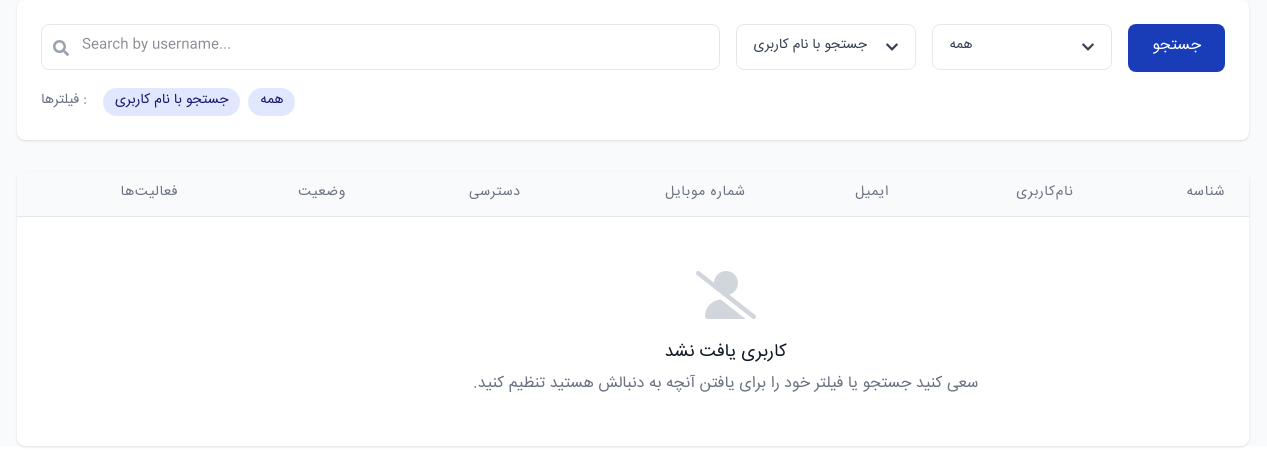
Test: UserManagement Component - Tests › filters users by banned status
Click the button "همه". click: (1022, 47)
box: [932,24,1112,70]
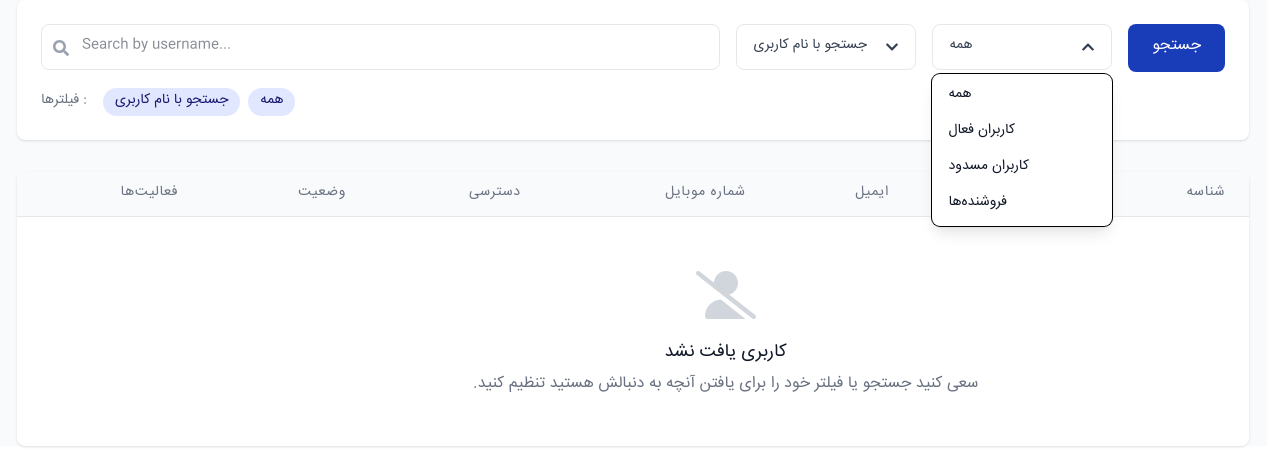
Wait for dropdown to open and find the option
Click the text "کاربران مسدود". click: (989, 168)
box: [948,157,1029,179]
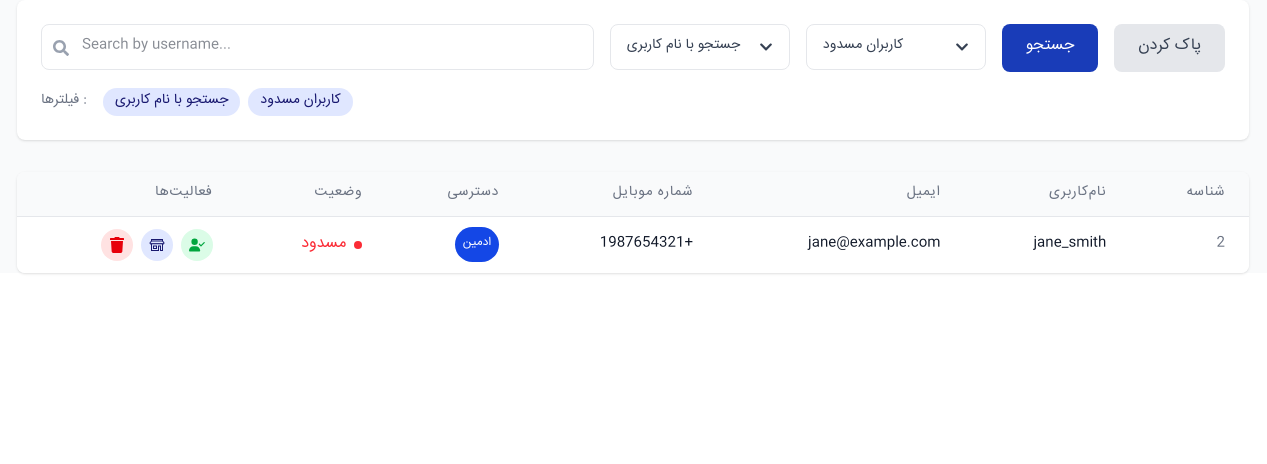
Now the text "jane_smith" is shown, box [1034,234,1106,256]
Now the text "مسدود" is shown, box [301,232,346,258]
